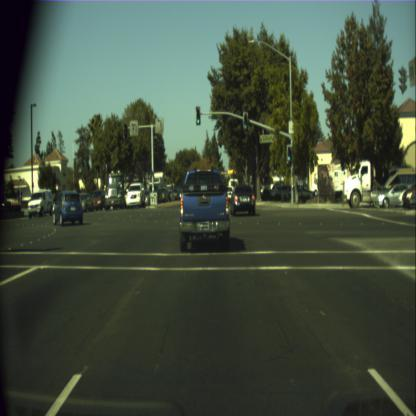Green: (196, 106, 200, 124), (287, 146, 291, 162), (244, 115, 247, 130)
off: (124, 124, 126, 138)
